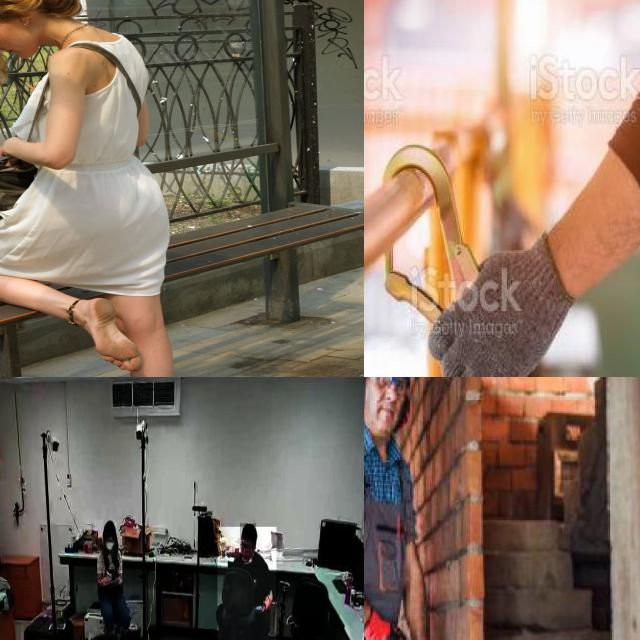Barefoots: (84, 298, 143, 372)
Ear-protection: (364, 377, 427, 431)
face_mask: (103, 537, 116, 557)
face_nomask: (240, 541, 254, 561)
glasses: (364, 377, 412, 396)
head_nohelmet: (240, 523, 256, 541), (102, 520, 116, 536)
person: (364, 377, 458, 640), (217, 527, 276, 640), (94, 519, 132, 640)
